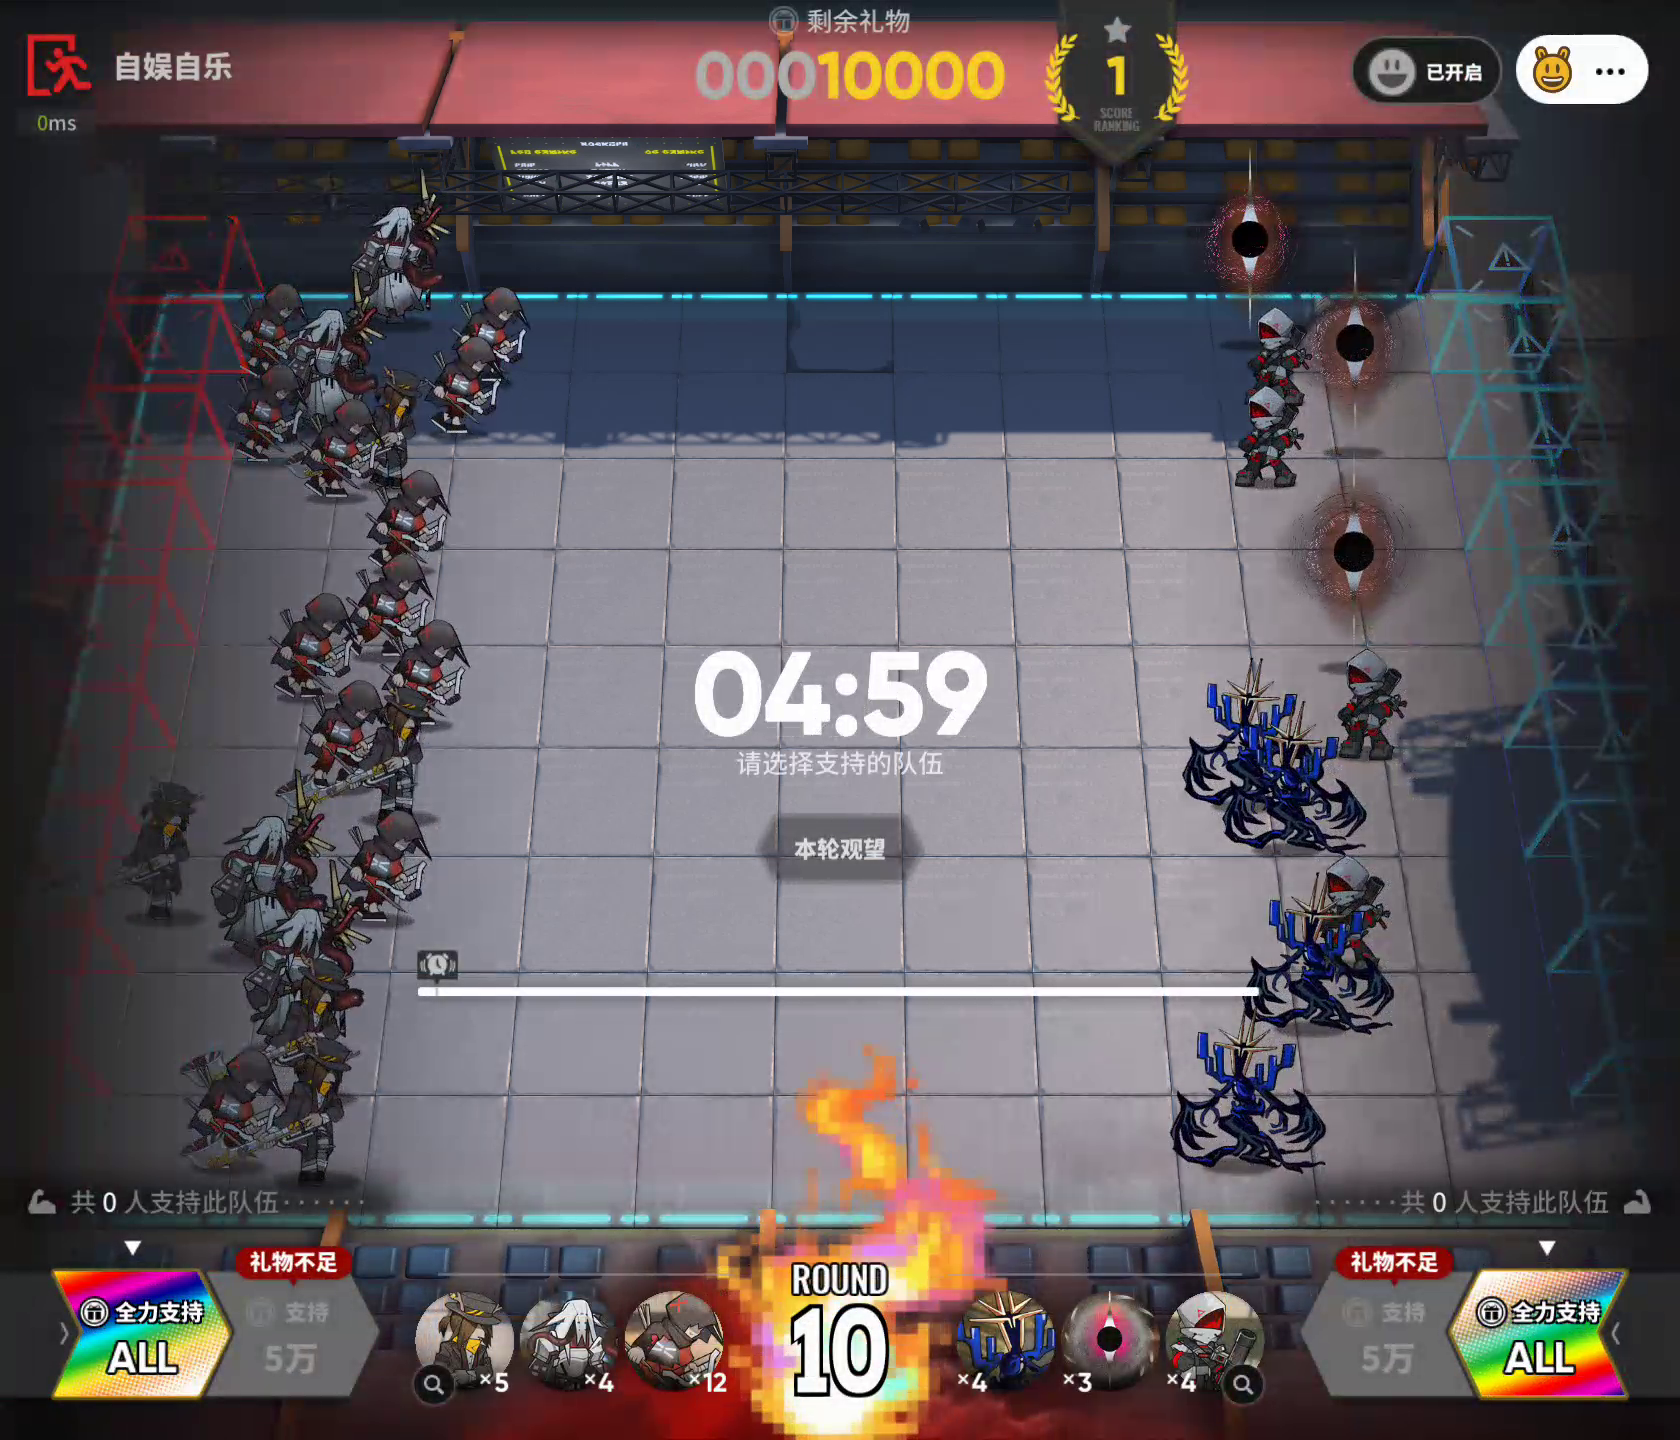“门”: (1304, 426, 1399, 649), (1304, 237, 1399, 449), (1209, 143, 1291, 346), (1069, 1284, 1166, 1393)
失业萨克斯手: (183, 1029, 366, 1174), (34, 777, 206, 924), (183, 959, 349, 1090), (279, 684, 431, 820), (411, 1284, 516, 1393), (344, 354, 424, 494)
狂躁珊瑚: (1153, 1003, 1331, 1196), (1240, 860, 1404, 1044), (1174, 639, 1326, 826), (1221, 699, 1376, 869), (946, 1281, 1067, 1399)
衣架射手: (171, 1036, 277, 1181), (339, 800, 434, 929), (359, 456, 456, 574), (621, 1283, 727, 1391), (259, 584, 356, 701), (379, 607, 466, 733), (300, 659, 379, 794), (289, 396, 381, 506), (441, 273, 530, 377), (226, 351, 306, 466), (224, 273, 314, 374), (349, 554, 431, 660), (430, 331, 507, 441)
迫击炮弹投手: (1321, 634, 1414, 766), (1167, 1281, 1266, 1396), (1316, 841, 1394, 970), (1224, 291, 1314, 401), (1229, 379, 1304, 497)
重生术师: (209, 766, 333, 961), (244, 853, 357, 1059), (339, 164, 451, 329), (286, 270, 381, 436), (516, 1287, 620, 1394)
